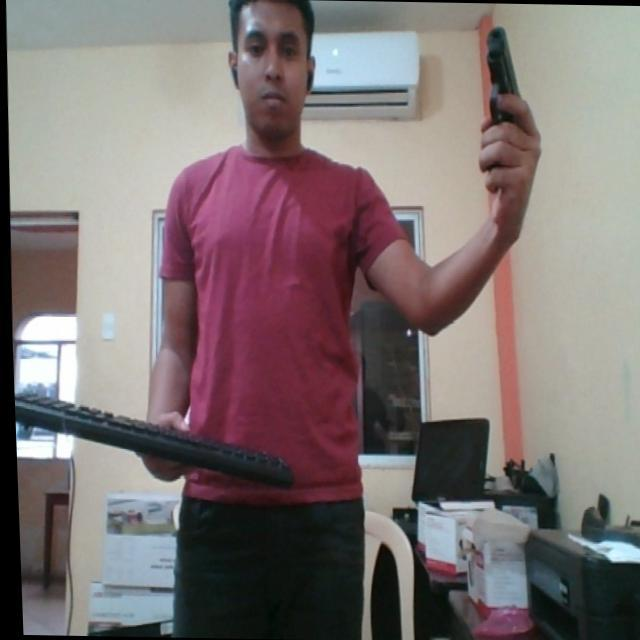weapon: (477, 22, 524, 132)
